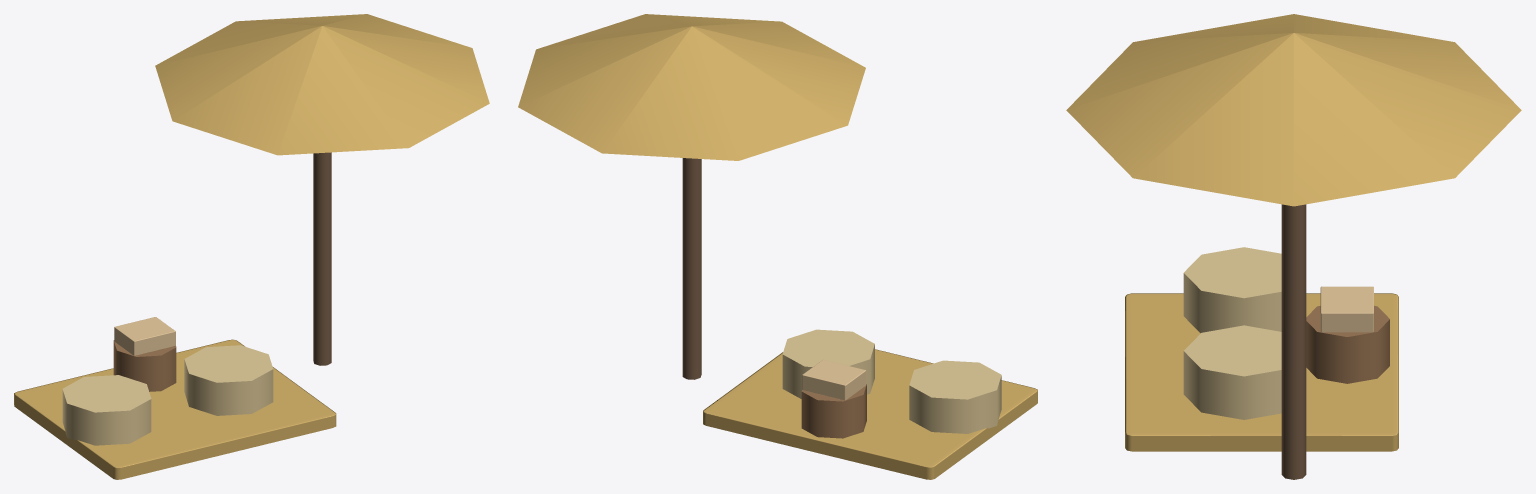
File: summerparasol-3.glb
3 views of the same model, side by side, from view 1: azimuth 30°, elevation 25°; view 2: azimuth 150°, elevation 25°; view 3: azimuth 270°, elevation 25° (orthographic). The views are drawn at different scales.
Parts seen in each view (by area): view 1: summerparasol-3-0; view 2: summerparasol-3-0; view 3: summerparasol-3-0.
Part boxes in pixels (box(x1,y1,x2,y2)): summerparasol-3-0: box(14, 14, 489, 479); summerparasol-3-0: box(518, 14, 1037, 479); summerparasol-3-0: box(1066, 14, 1521, 479).
Size of the model in its own units: 1.81 by 1.39 by 1.28.
